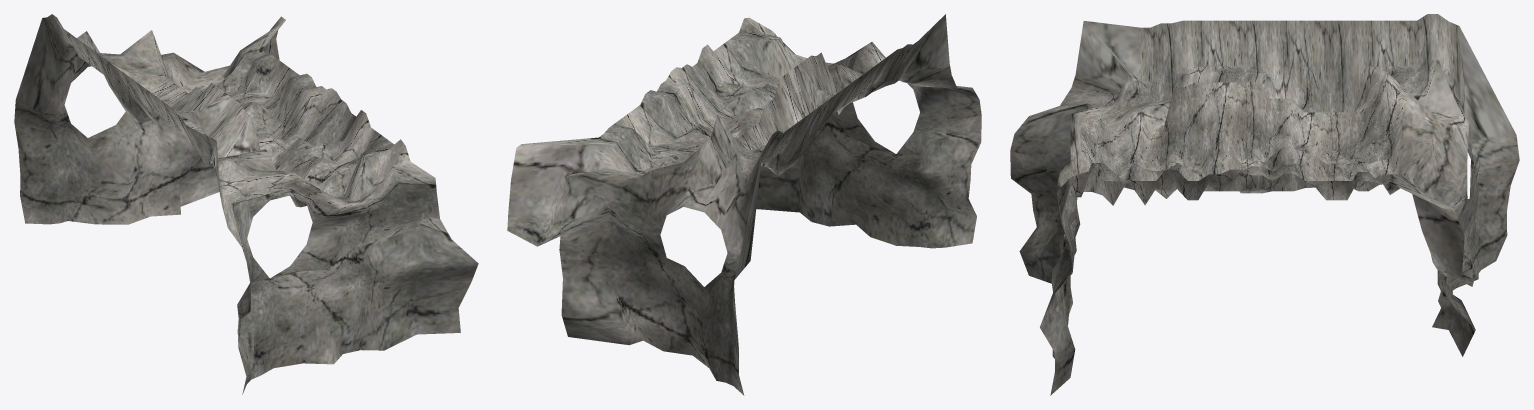
Rendered from DWARF_PALACE_MAINHALL_CELLING01.fbx.
3 views of the same model, side by side, from view 1: azimuth 30°, elevation 25°; view 2: azimuth 150°, elevation 25°; view 3: azimuth 270°, elevation 25° (orthographic). The views are drawn at different scales.
Visible parts, largest first — view 1: DWARF_PALACE_MAINHALL_CELLING01; view 2: DWARF_PALACE_MAINHALL_CELLING01; view 3: DWARF_PALACE_MAINHALL_CELLING01.
Part boxes in pixels (box(x1,y1,x2,y2)): DWARF_PALACE_MAINHALL_CELLING01: box(14, 14, 478, 394); DWARF_PALACE_MAINHALL_CELLING01: box(507, 14, 981, 395); DWARF_PALACE_MAINHALL_CELLING01: box(1010, 14, 1519, 395).
Size of the model in its own units: 367643 by 353350 by 623366.
Materials: 1 (1 with a texture image).
